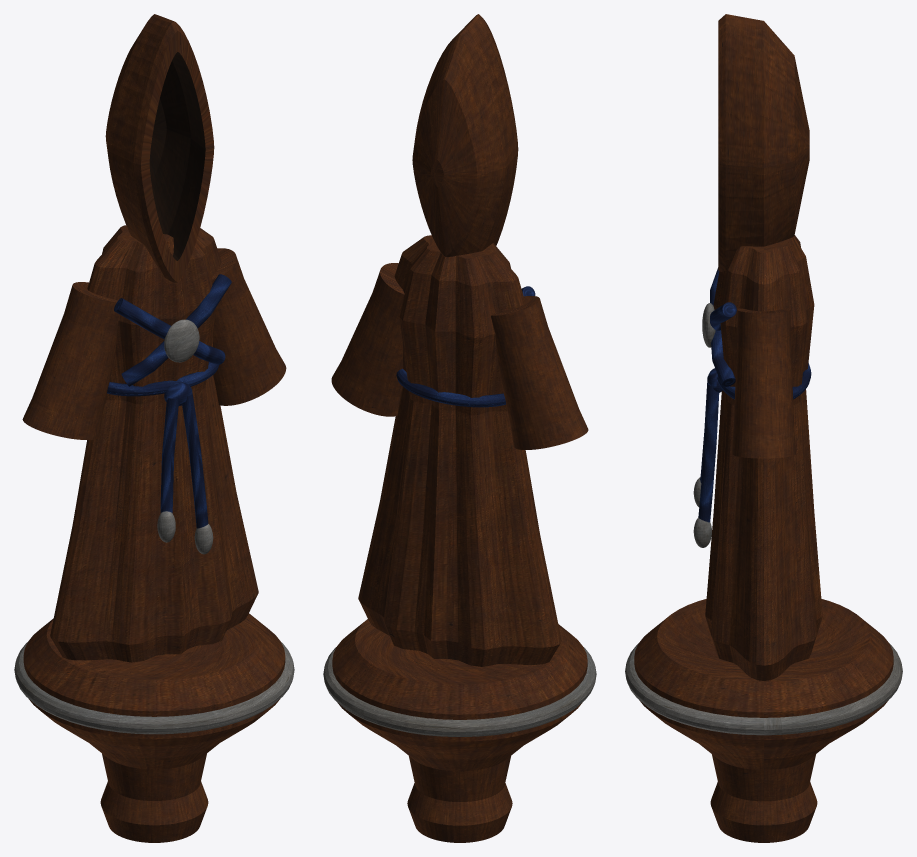
The model's file is effigy_t2.obj.
The picture shows the model from 3 angles, left to right: view 1: azimuth 30°, elevation 25°; view 2: azimuth 150°, elevation 25°; view 3: azimuth 270°, elevation 25°; orthographic projection. The views are drawn at different scales.
Parts seen in each view (by area): view 1: robe, base, hood, sleeve-1, sleeve1, base_band, chest_cord1, hanging_cord1, hanging_cord-1, chest_cord-1, medallion, waist_cord; view 2: robe, base, hood, sleeve-1, sleeve1, base_band, waist_cord; view 3: robe, base, hood, sleeve1, base_band, hanging_cord1, chest_cord-1.
Part boxes in pixels (x1,y1,x2,y2): robe: (50, 225, 258, 662); base: (23, 613, 285, 842); hood: (105, 14, 214, 282); sleeve-1: (22, 282, 119, 439); sleeve1: (211, 248, 286, 405); base_band: (14, 642, 294, 734); chest_cord1: (121, 274, 231, 386); hanging_cord1: (182, 392, 208, 528); hanging_cord-1: (160, 398, 178, 512); chest_cord-1: (114, 298, 225, 364); medallion: (164, 319, 199, 362); waist_cord: (107, 362, 218, 396); robe: (358, 235, 561, 666); base: (332, 619, 587, 842); hood: (412, 14, 518, 257); sleeve-1: (491, 296, 588, 449); sleeve1: (331, 263, 404, 416); base_band: (323, 647, 596, 736); waist_cord: (396, 368, 505, 407); robe: (705, 235, 822, 680); base: (634, 599, 893, 842); hood: (718, 14, 809, 271); sleeve1: (732, 308, 795, 458); base_band: (625, 643, 902, 735); hanging_cord1: (698, 383, 719, 522); chest_cord-1: (710, 267, 735, 386).
Bounding box in the file's own units: 36.81 × 112 × 34.84.
4 materials, 4 textured.
